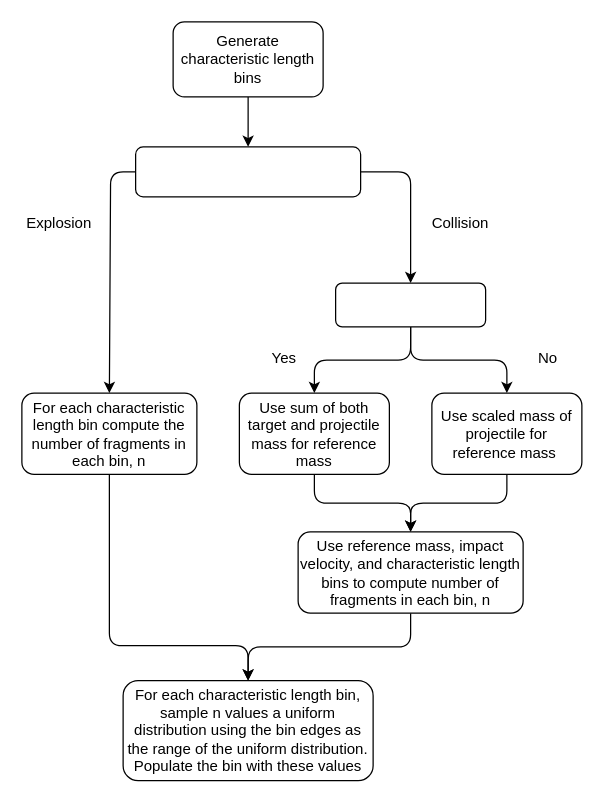
Some shapes in this 604 by 803 pixel diagram are drawn without their labels. The shapes that lost their labels are listed below. From the top down, each one's centre as x and y in pixels, then its label:
At (x=247, y=171): "Is fragmentation event an explosion or collision".
At (x=410, y=304): "Was the collision catastrophic?".
